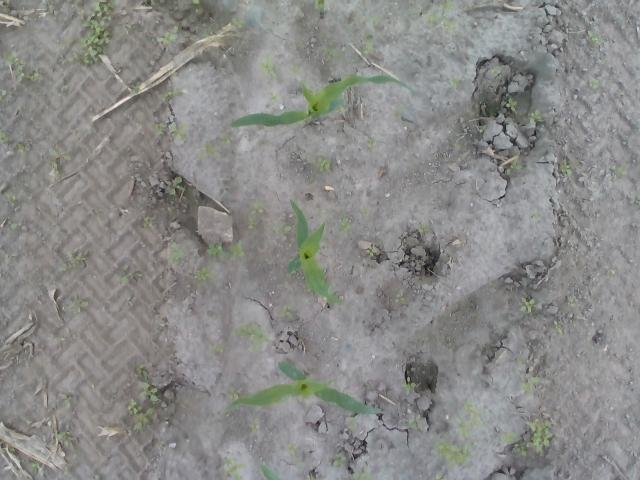Maize: (228, 74, 414, 126), (226, 359, 383, 415), (286, 198, 342, 305), (261, 461, 285, 480), (316, 0, 326, 19)
Weeds: (126, 364, 162, 434), (78, 0, 112, 65), (524, 416, 559, 458), (432, 436, 475, 470), (232, 320, 274, 354), (456, 400, 488, 438), (426, 1, 458, 34), (362, 14, 384, 55), (498, 430, 528, 456), (0, 130, 33, 153), (1, 48, 24, 80), (206, 240, 246, 258), (58, 247, 85, 273), (48, 142, 66, 176), (248, 198, 266, 232), (225, 454, 248, 480), (520, 374, 541, 400), (170, 122, 192, 145), (166, 238, 184, 264), (197, 140, 220, 160), (504, 160, 530, 176), (68, 296, 88, 314), (194, 266, 216, 282), (527, 108, 544, 128), (158, 30, 179, 46), (400, 377, 417, 396), (320, 46, 337, 64), (280, 302, 296, 321), (168, 175, 182, 196), (519, 295, 535, 313), (350, 469, 376, 480), (590, 31, 606, 47), (152, 120, 168, 136), (338, 215, 352, 233), (23, 459, 40, 473), (160, 90, 178, 103), (529, 208, 544, 223), (559, 160, 572, 176), (289, 63, 303, 77), (318, 158, 333, 171), (113, 271, 128, 284), (506, 95, 518, 111), (228, 384, 240, 400), (262, 54, 272, 73), (5, 190, 16, 207), (231, 16, 244, 30), (553, 320, 564, 336), (287, 442, 299, 455), (212, 342, 225, 354), (393, 292, 406, 304), (449, 75, 460, 89), (491, 64, 502, 78), (26, 70, 40, 81), (406, 417, 418, 429), (334, 454, 346, 466), (62, 392, 70, 410), (364, 244, 376, 256), (0, 88, 10, 102), (630, 192, 640, 206), (249, 421, 260, 432), (418, 223, 429, 234), (590, 78, 600, 90), (616, 166, 625, 178), (367, 138, 376, 150), (143, 214, 153, 224), (131, 81, 139, 93), (270, 94, 280, 102), (10, 222, 18, 232), (58, 430, 66, 439), (478, 125, 486, 133), (222, 138, 231, 145), (192, 0, 200, 4)
